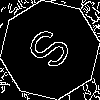S: (25, 25, 81, 79)
